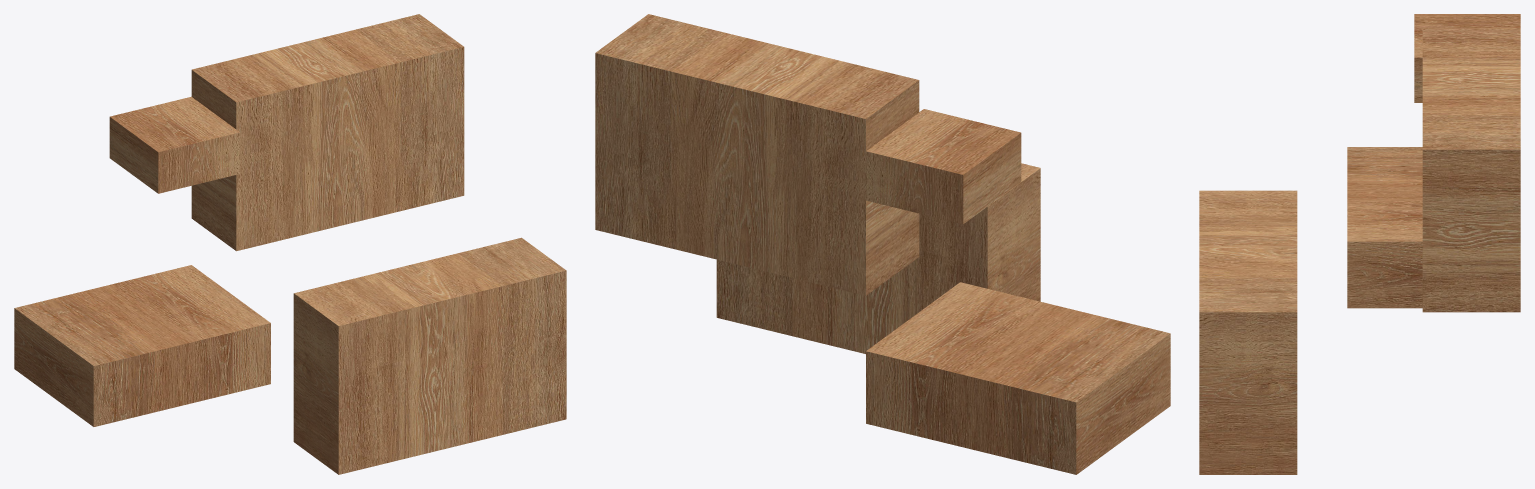
The model's file is 26488_gpt-only.glb.
3 views of the same model, side by side, from view 1: azimuth 30°, elevation 25°; view 2: azimuth 150°, elevation 25°; view 3: azimuth 270°, elevation 25° (orthographic). The views are drawn at different scales.
Parts seen in each view (by area): view 1: ParentEmpty; view 2: ParentEmpty; view 3: ParentEmpty.
Boxes of the visible parts, x1,y1,x2,y2 form: ParentEmpty: [14, 14, 566, 474]; ParentEmpty: [595, 14, 1170, 474]; ParentEmpty: [1199, 14, 1520, 474].
Bounding box in the file's own units: 1 × 0.7022 × 0.6292.
1 material, 1 textured.
